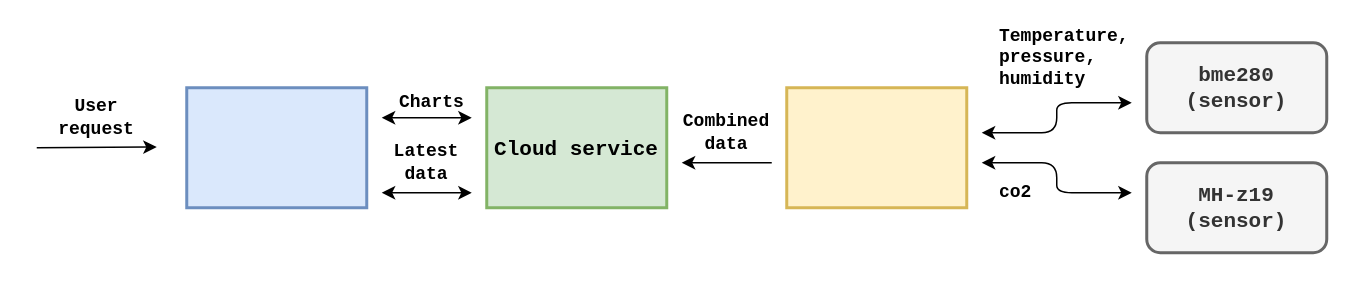
Some shapes in this 1355 by 281 pixel diagram are drawn without their labels. The box of each missing label's shape, as (x1, y1, x2, y2) in pixels:
Odroid: (784, 86, 968, 208)
Telegram bot: (184, 86, 368, 208)
